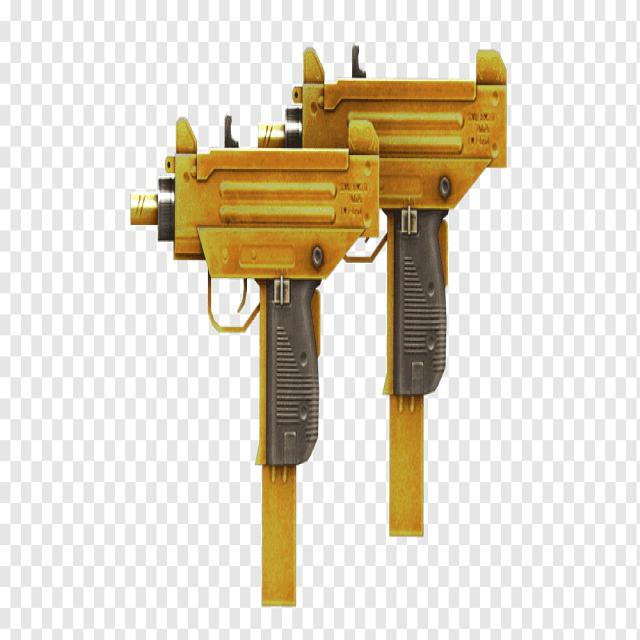firearm: (257, 46, 508, 538), (130, 118, 380, 606)
